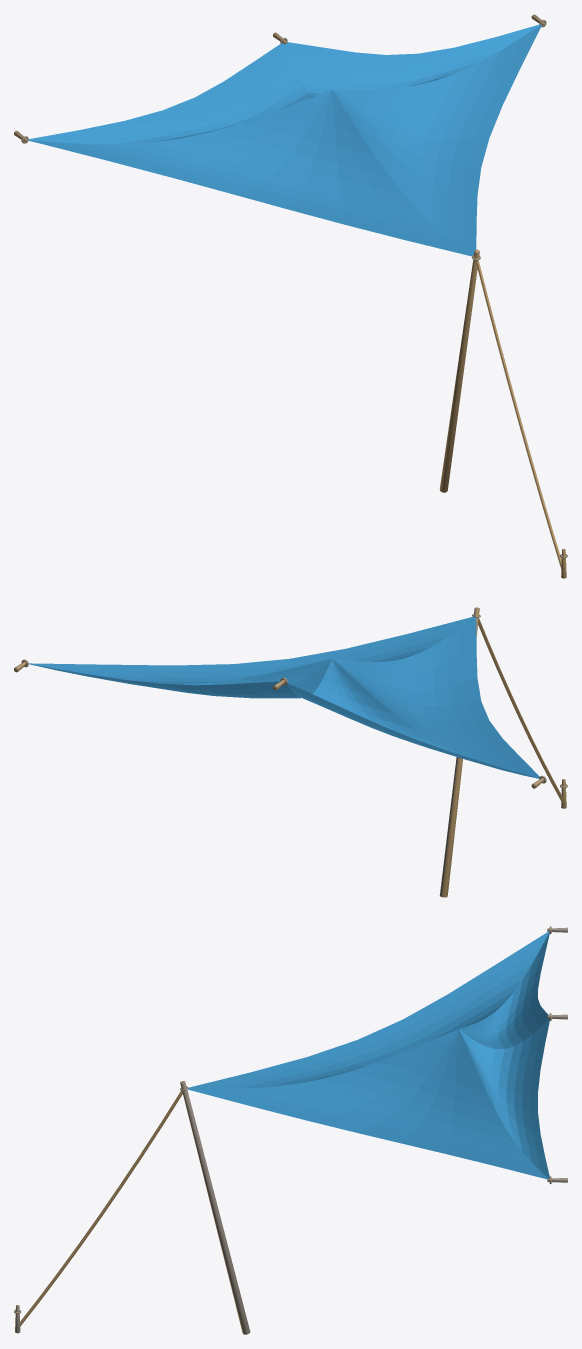
The model's file is nomad_sail_wall_fan.fbx.
3 renders of one model, top to bottom at view 1: azimuth 30°, elevation 25°; view 2: azimuth 150°, elevation 25°; view 3: azimuth 270°, elevation 25°, orthographic. The views are drawn at different scales.
Visible parts, largest first — view 1: S15_Canopy, S15_Mast_SailRig_MastPole, S15_Guy; view 2: S15_Canopy, S15_Mast_SailRig_MastPole, S15_Guy; view 3: S15_Canopy, S15_Mast_SailRig_MastPole, S15_Guy.
Boxes of the visible parts, x1,y1,x2,y2 form: S15_Canopy: [28, 24, 541, 256]; S15_Mast_SailRig_MastPole: [439, 249, 480, 492]; S15_Guy: [475, 260, 561, 568]; S15_Canopy: [29, 617, 539, 778]; S15_Mast_SailRig_MastPole: [439, 607, 480, 897]; S15_Guy: [478, 618, 564, 802]; S15_Canopy: [188, 931, 549, 1179]; S15_Mast_SailRig_MastPole: [180, 1081, 250, 1334]; S15_Guy: [19, 1091, 182, 1326].
Size of the model in its own units: 548 by 335 by 526.
